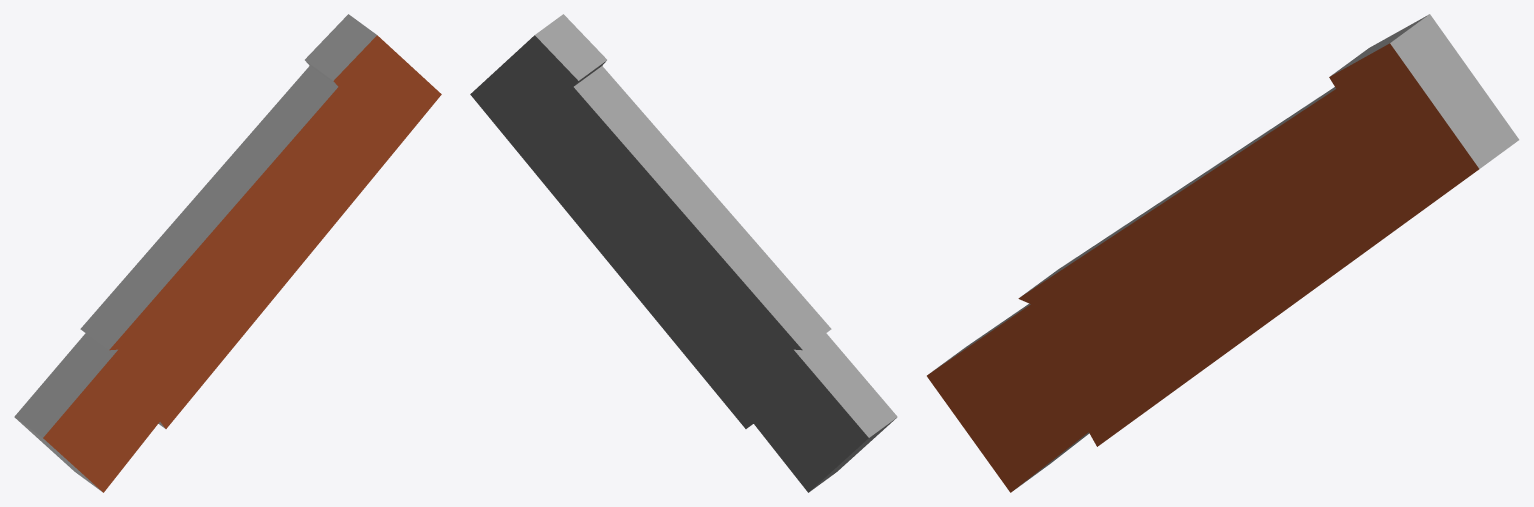
Rendered from construction_3831_assumed_A_Casa_h6m.obj.
The picture shows the model from 3 angles, left to right: view 1: azimuth 30°, elevation 25°; view 2: azimuth 150°, elevation 25°; view 3: azimuth 330°, elevation 25°; orthographic projection. The views are drawn at different scales.
Visible parts, largest first — view 1: construction_3831_assumed_A_Casa; view 2: construction_3831_assumed_A_Casa; view 3: construction_3831_assumed_A_Casa.
Part boxes in pixels (x1,y1,x2,y2): construction_3831_assumed_A_Casa: [14, 14, 441, 492]; construction_3831_assumed_A_Casa: [470, 14, 897, 492]; construction_3831_assumed_A_Casa: [927, 14, 1519, 492].
Size of the model in its own units: 47.92 by 44.9 by 6.
